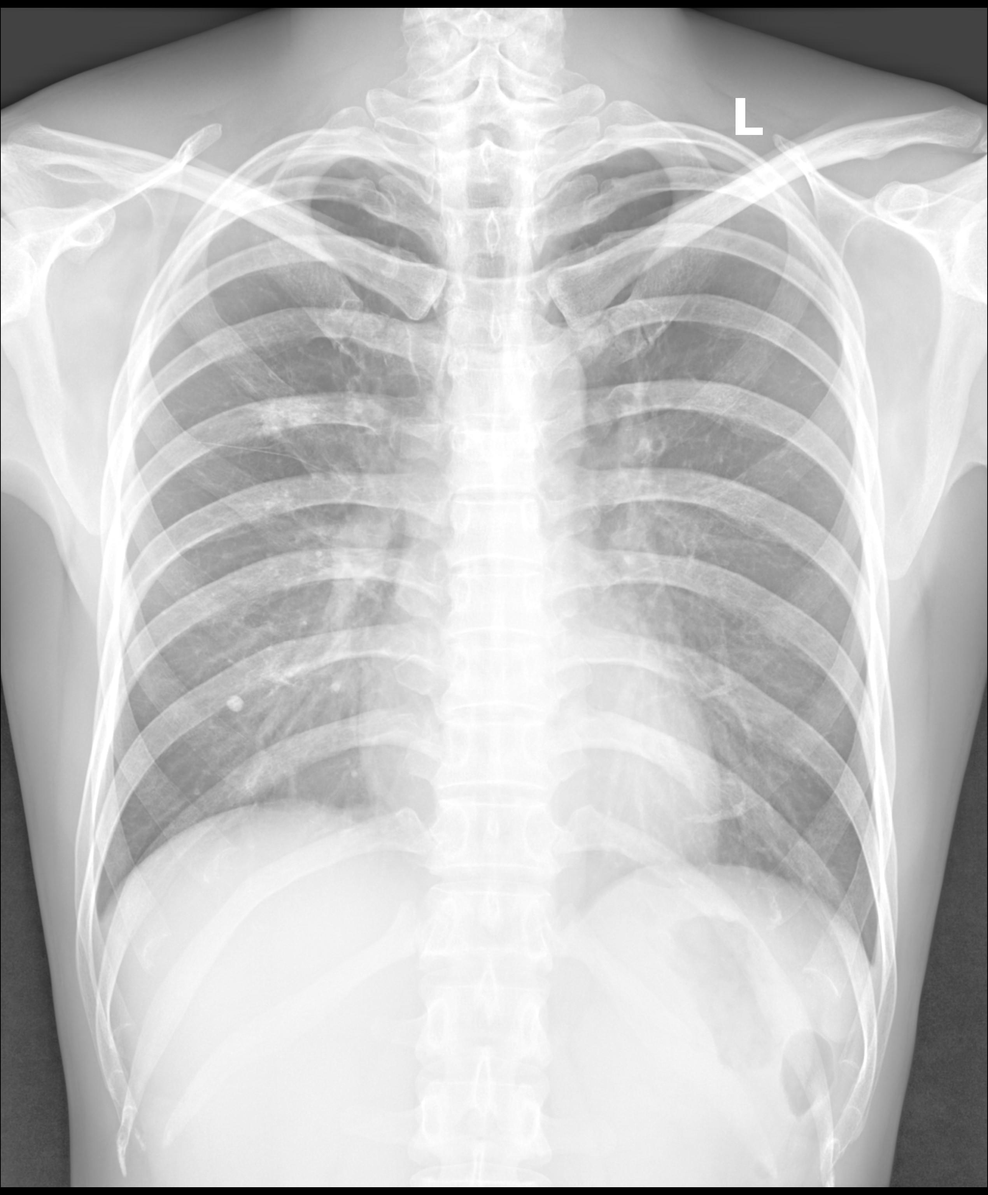Pulmonary fibrosis: (224, 369, 332, 440)
